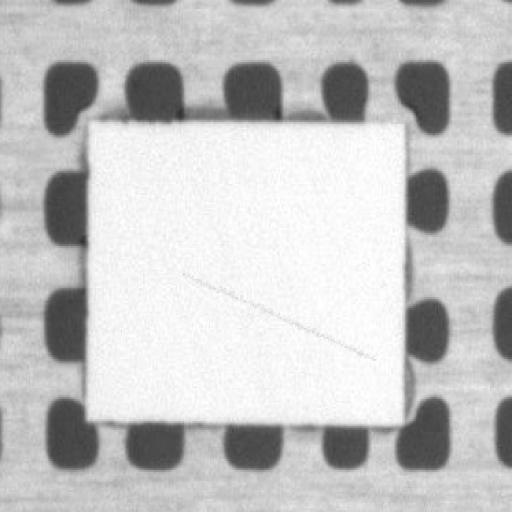DIE_CRACK: (240, 205, 496, 269)
